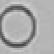no answer: (0, 3, 36, 48)
